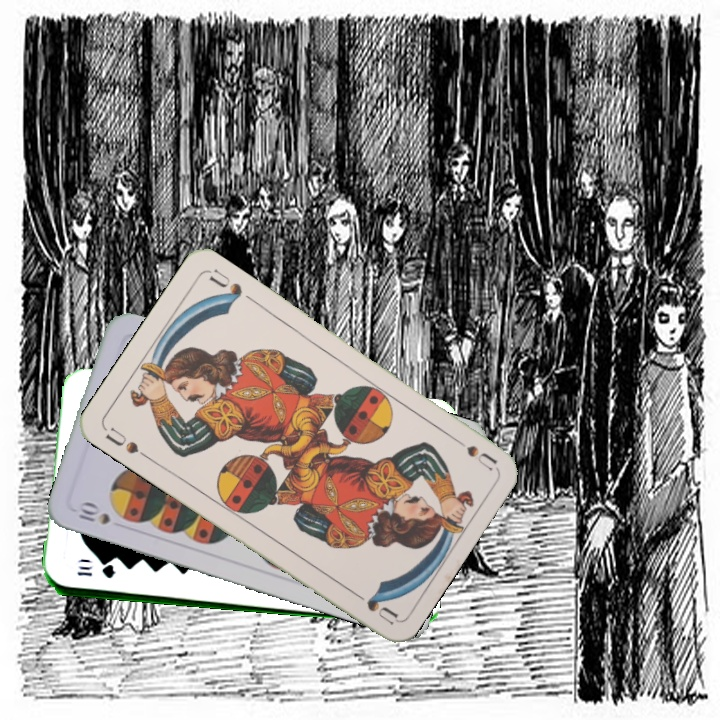G10: (73, 562, 118, 581)
S10: (74, 500, 113, 527)
SU: (445, 430, 500, 473), (101, 422, 153, 463)
